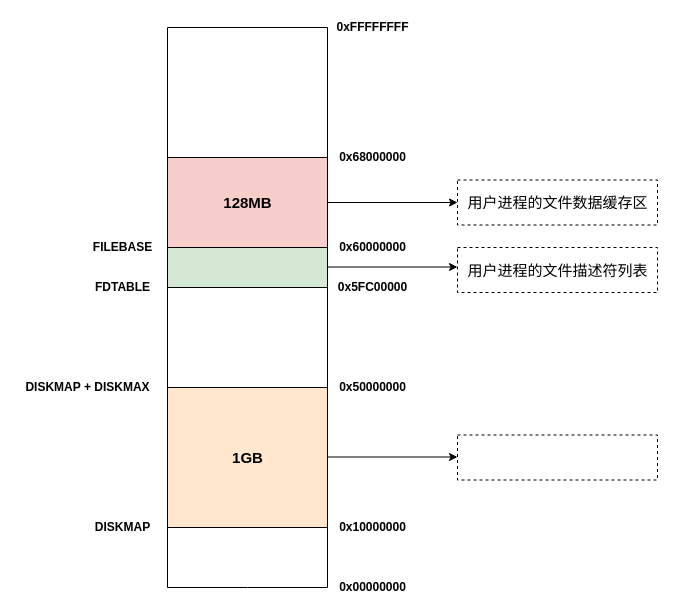
Image size: 675x614. Some labels were removed from this diagram. Here are the shapes that lost their labels. From the top down, the centre of each, then its label:
At point (247, 267): "4MB".
At point (557, 457): "文件服务进程的块缓存".
